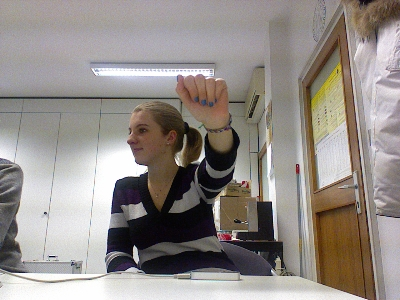石头: (173, 73, 230, 125)
